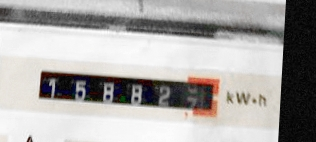1: (44, 75, 59, 97)
2: (155, 83, 172, 108)
5: (72, 76, 87, 102)
7: (184, 91, 197, 109)
8: (128, 81, 143, 106), (100, 80, 114, 103)
screen: (28, 60, 228, 126)
